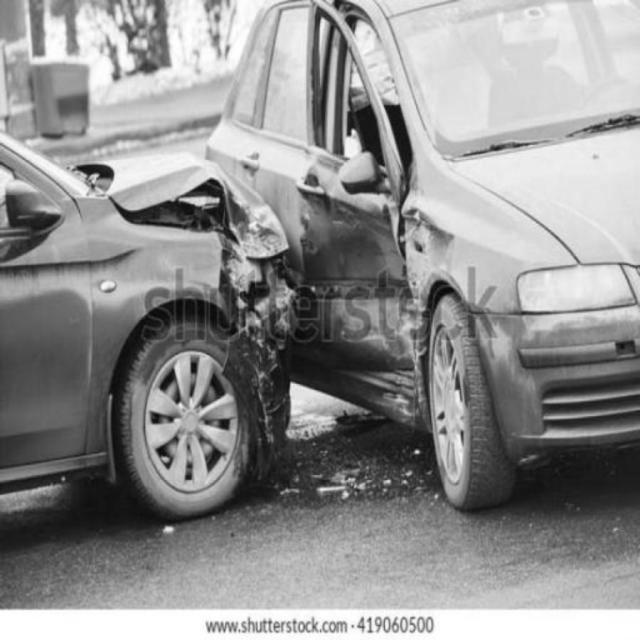accident: (1, 23, 639, 513)
